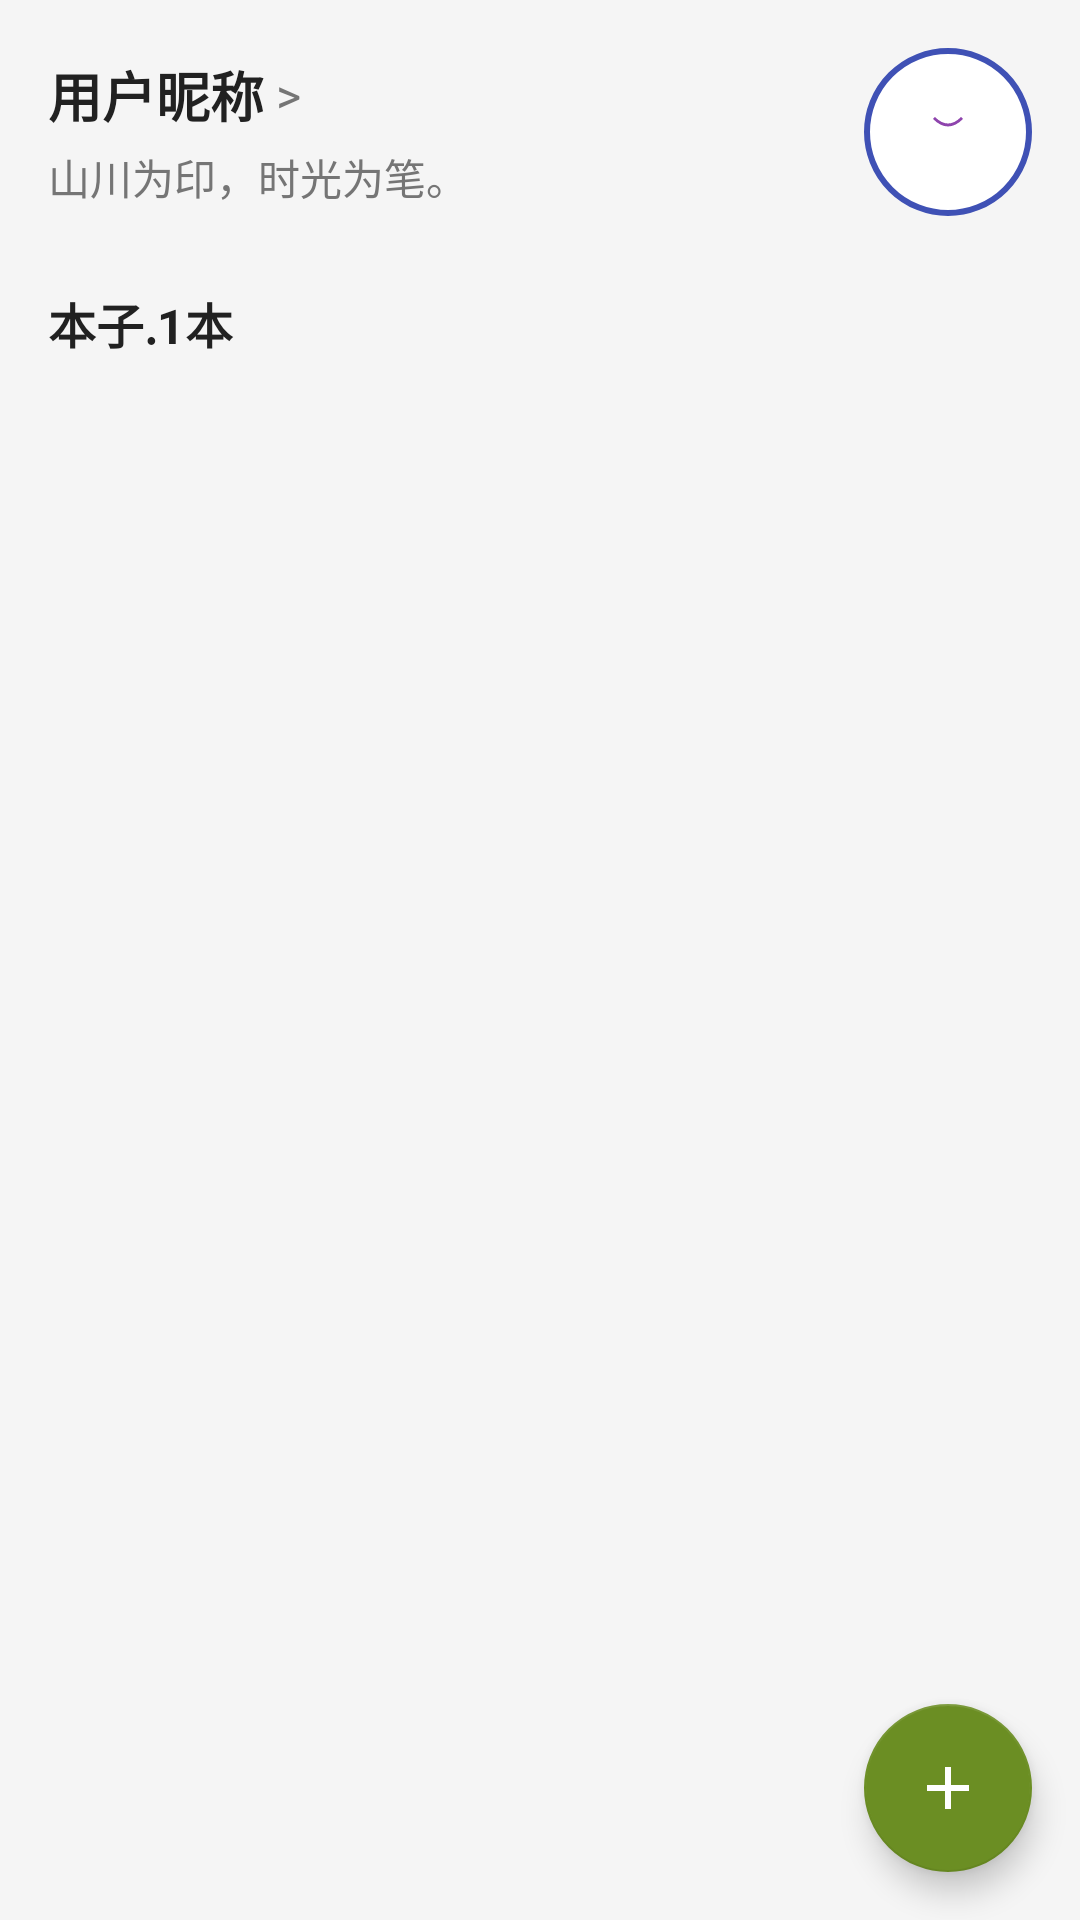

Icons on this 1080 × 1920 Android screen, each with its box as (x1, y1, x2, y2):
创建: (864, 1704, 1032, 1872)
